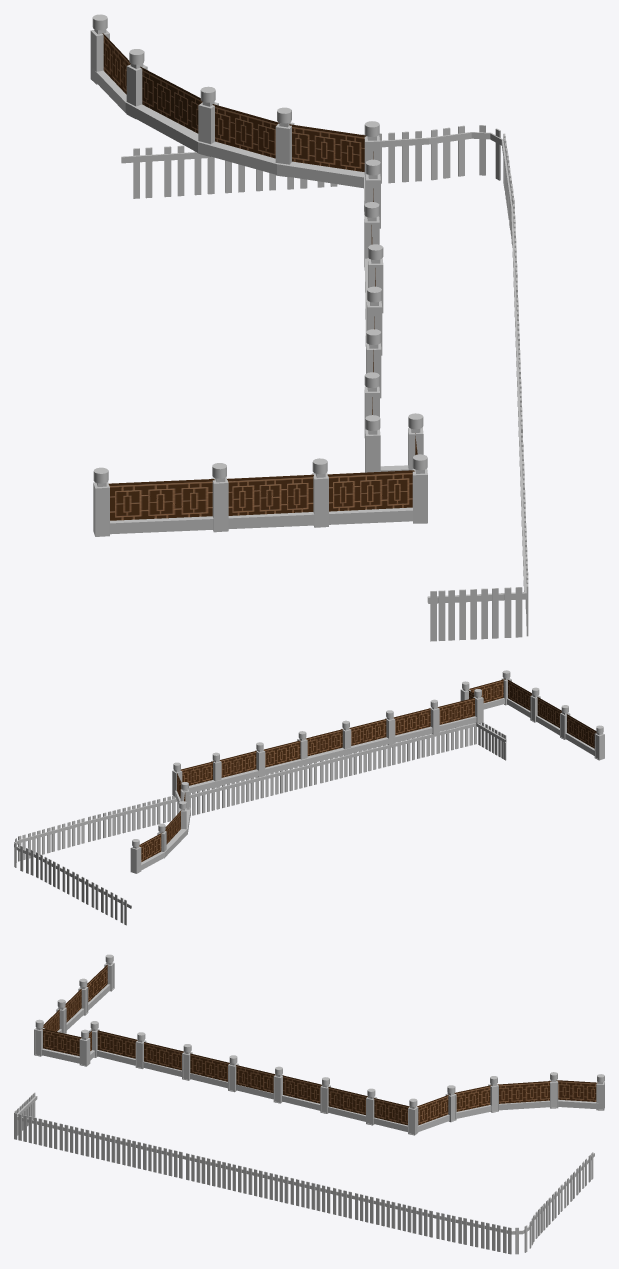
File: gzl_270_muweilan_02.FBX
The picture shows the model from 3 angles, top to bottom: view 1: azimuth 30°, elevation 25°; view 2: azimuth 150°, elevation 25°; view 3: azimuth 270°, elevation 25°; orthographic projection. The views are drawn at different scales.
Parts seen in each view (by area): view 1: gzl_270_muwen_03, gzl_270_toutie_02, gzl_270_muwen_04; view 2: gzl_270_muwen_04, gzl_270_muwen_03, gzl_270_toutie_02; view 3: gzl_270_muwen_04, gzl_270_toutie_02, gzl_270_muwen_03.
Part boxes in pixels (x1=…): gzl_270_muwen_03: x1=90, y1=14, x2=427, y2=536; gzl_270_toutie_02: x1=102, y1=33, x2=417, y2=520; gzl_270_muwen_04: x1=121, y1=125, x2=528, y2=641; gzl_270_muwen_04: x1=14, y1=722, x2=506, y2=925; gzl_270_muwen_03: x1=130, y1=670, x2=604, y2=873; gzl_270_toutie_02: x1=139, y1=679, x2=596, y2=861; gzl_270_muwen_04: x1=14, y1=1092, x2=594, y2=1254; gzl_270_toutie_02: x1=42, y1=965, x2=597, y2=1125; gzl_270_muwen_03: x1=34, y1=954, x2=604, y2=1135.
Size of the model in its own units: 23359 by 5122 by 28555.
